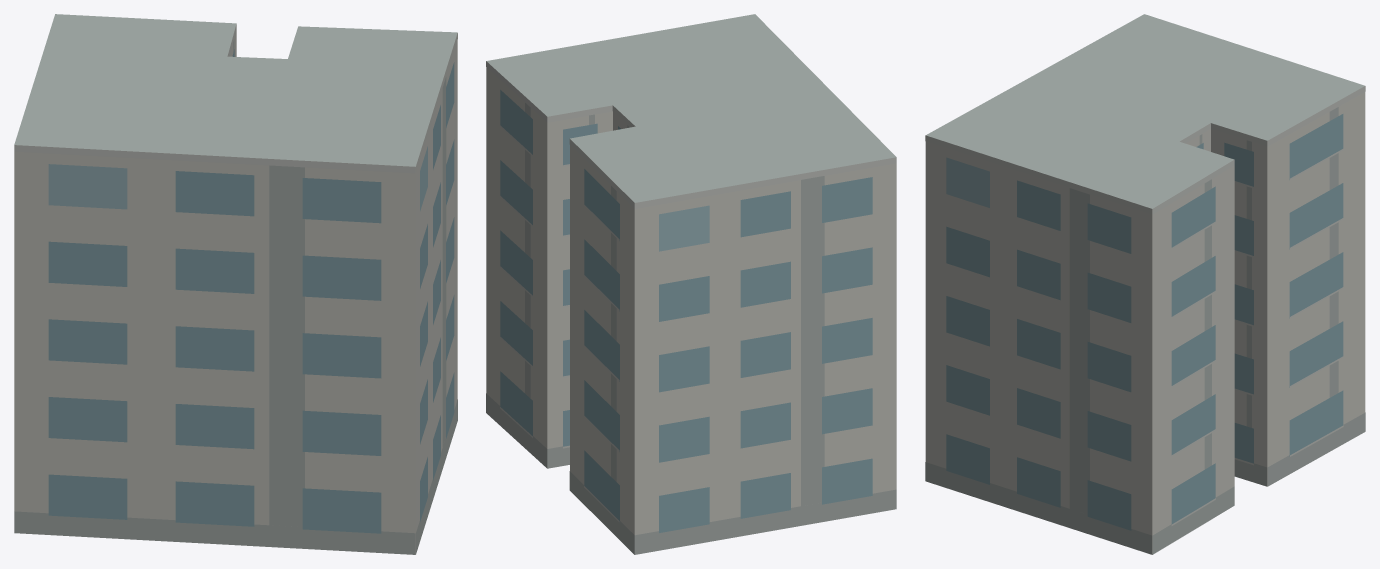
Rendered from survey-upis-32978738.glb.
The picture shows the model from 3 angles, left to right: view 1: azimuth 30°, elevation 25°; view 2: azimuth 150°, elevation 25°; view 3: azimuth 270°, elevation 25°; orthographic projection. The views are drawn at different scales.
Parts seen in each view (by area): view 1: survey-upis-32978738.tmp; view 2: survey-upis-32978738.tmp; view 3: survey-upis-32978738.tmp.
Boxes of the visible parts, <box> form: survey-upis-32978738.tmp: <box>14,14,457,554</box>; survey-upis-32978738.tmp: <box>486,14,896,554</box>; survey-upis-32978738.tmp: <box>925,14,1365,554</box>.
Bounding box in the file's own units: 17.29 × 14.3 × 16.49.
